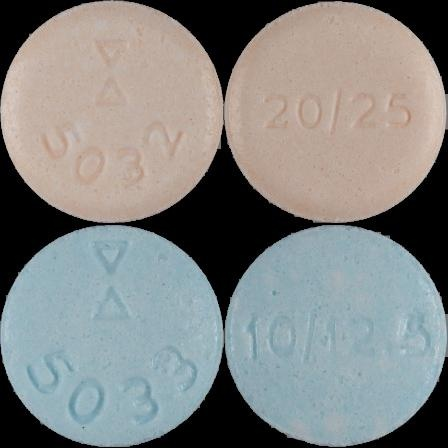0172-5032: (0, 0, 224, 224)
